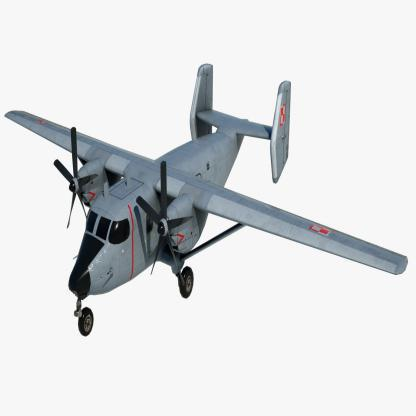CIV_Plane: (0, 57, 411, 353)
